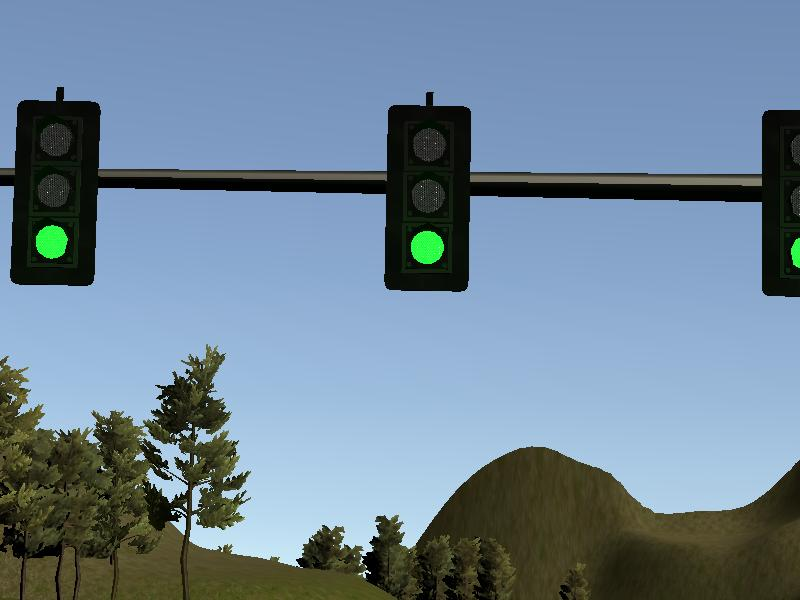green: (11, 99, 94, 286), (388, 104, 471, 291)
